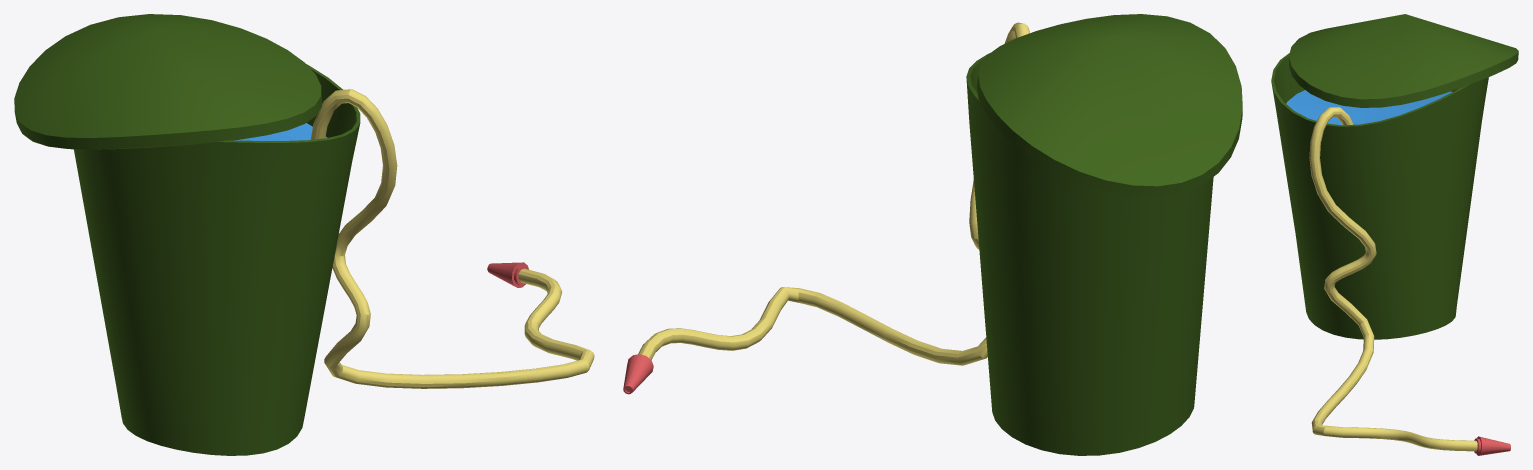
File: Water_Barrel.fbx
The picture shows the model from 3 angles, left to right: view 1: azimuth 30°, elevation 25°; view 2: azimuth 150°, elevation 25°; view 3: azimuth 270°, elevation 25°; orthographic projection. The views are drawn at different scales.
Parts seen in each view (by area): view 1: Cylinder.010, Cylinder.011, BezierCurve.003, BezierCurve.004, Cylinder.012; view 2: Cylinder.010, Cylinder.011, BezierCurve.003, BezierCurve.004; view 3: Cylinder.010, Cylinder.011, BezierCurve.003, Cylinder.012, BezierCurve.004.
Part boxes in pixels (left/top/right/bottom): Cylinder.010: left=74, top=64, right=360, bottom=455; Cylinder.011: left=14, top=14, right=321, bottom=149; BezierCurve.003: left=310, top=89, right=594, bottom=388; BezierCurve.004: left=487, top=262, right=528, bottom=287; Cylinder.012: left=234, top=123, right=327, bottom=140; Cylinder.010: left=966, top=53, right=1213, bottom=455; Cylinder.011: left=976, top=14, right=1242, bottom=196; BezierCurve.003: left=638, top=22, right=1029, bottom=365; BezierCurve.004: left=623, top=354, right=653, bottom=394; Cylinder.010: left=1271, top=53, right=1488, bottom=339; Cylinder.011: left=1289, top=14, right=1518, bottom=107; BezierCurve.003: left=1309, top=107, right=1477, bottom=451; Cylinder.012: left=1286, top=90, right=1452, bottom=125; BezierCurve.004: left=1474, top=436, right=1510, bottom=455.
Bounding box in the file's own units: 204 × 143 × 110.
